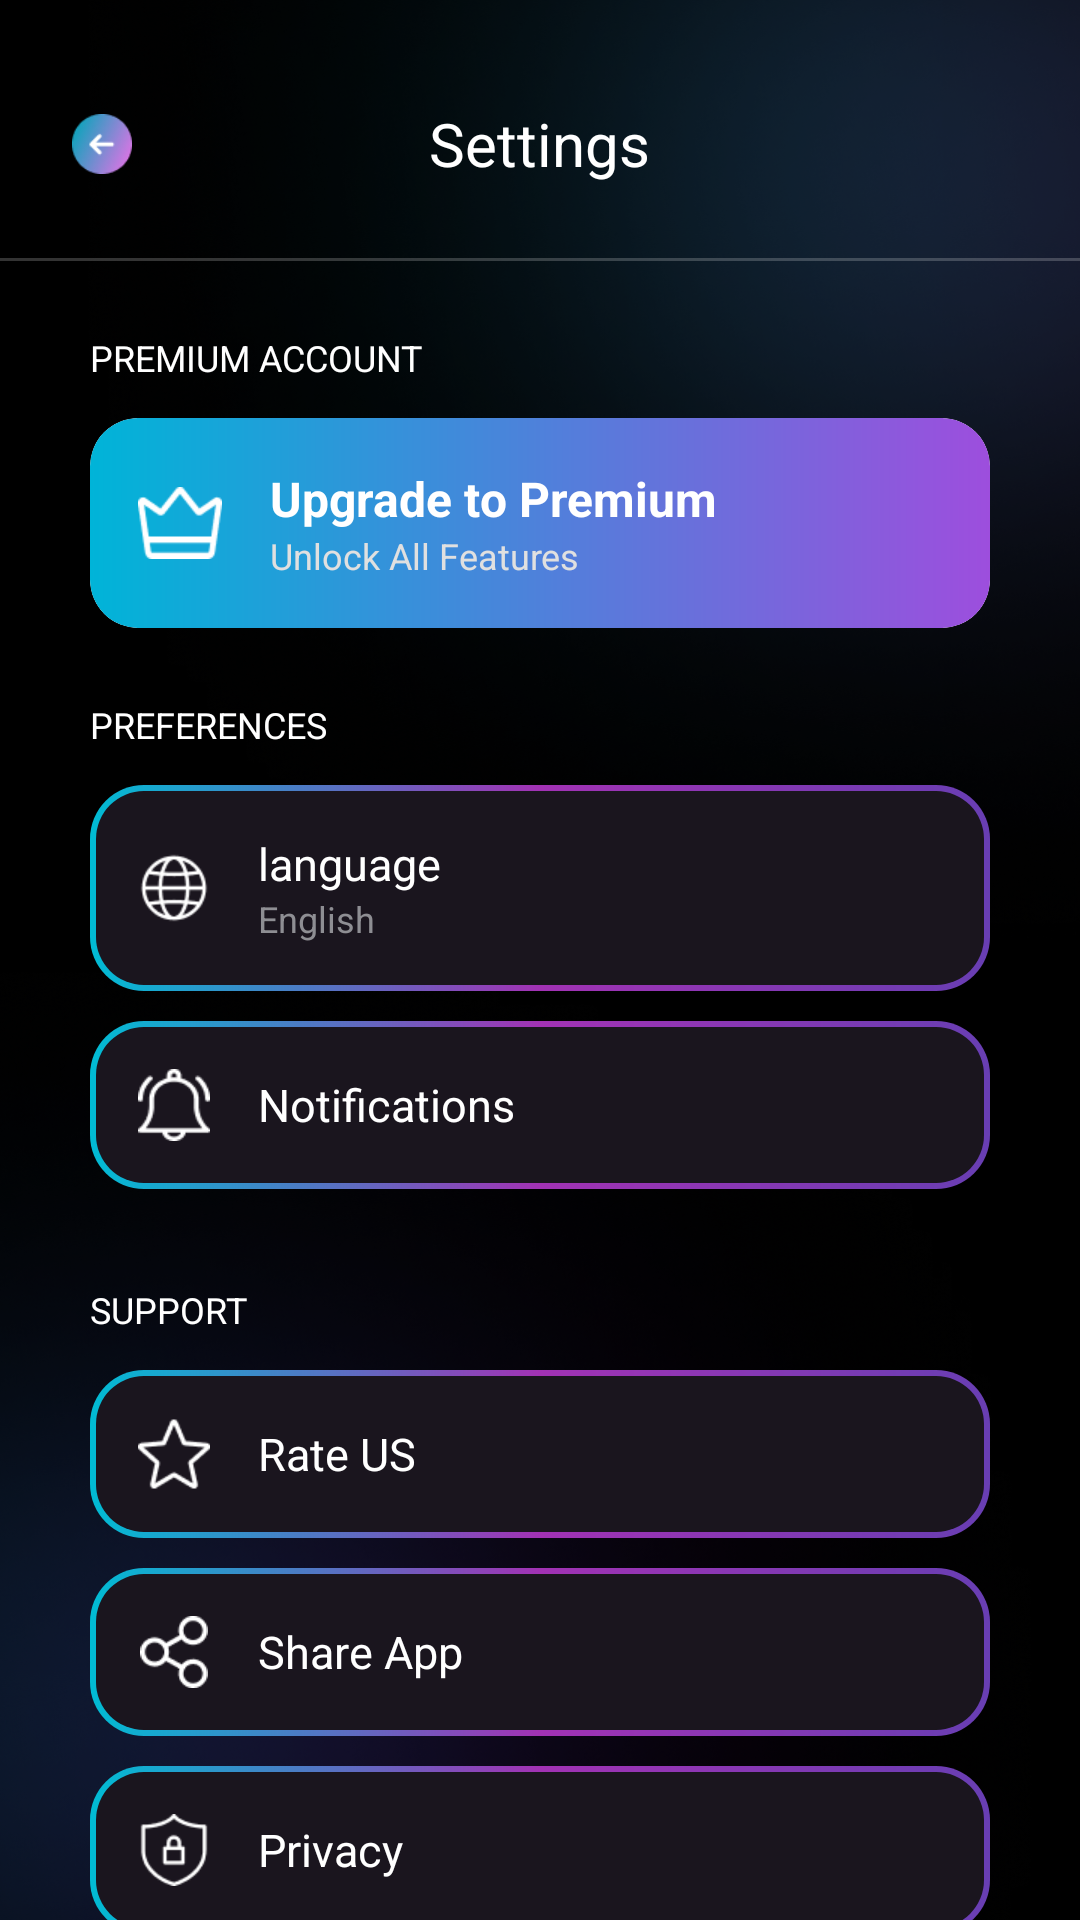

Screen size 1080 × 1920. Icon name, then its center in pixels as (x,y):
back arrow: (102,144)
crown: (180,523)
star: (174,1454)
